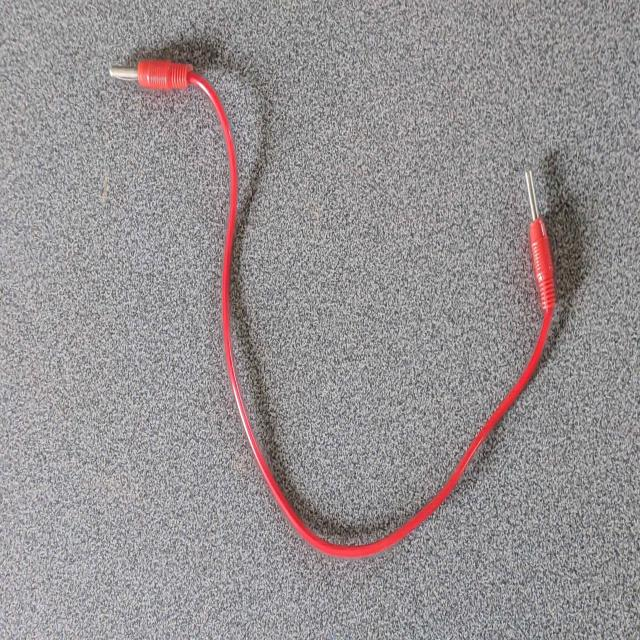BNC Cable: (95, 27, 572, 577)
